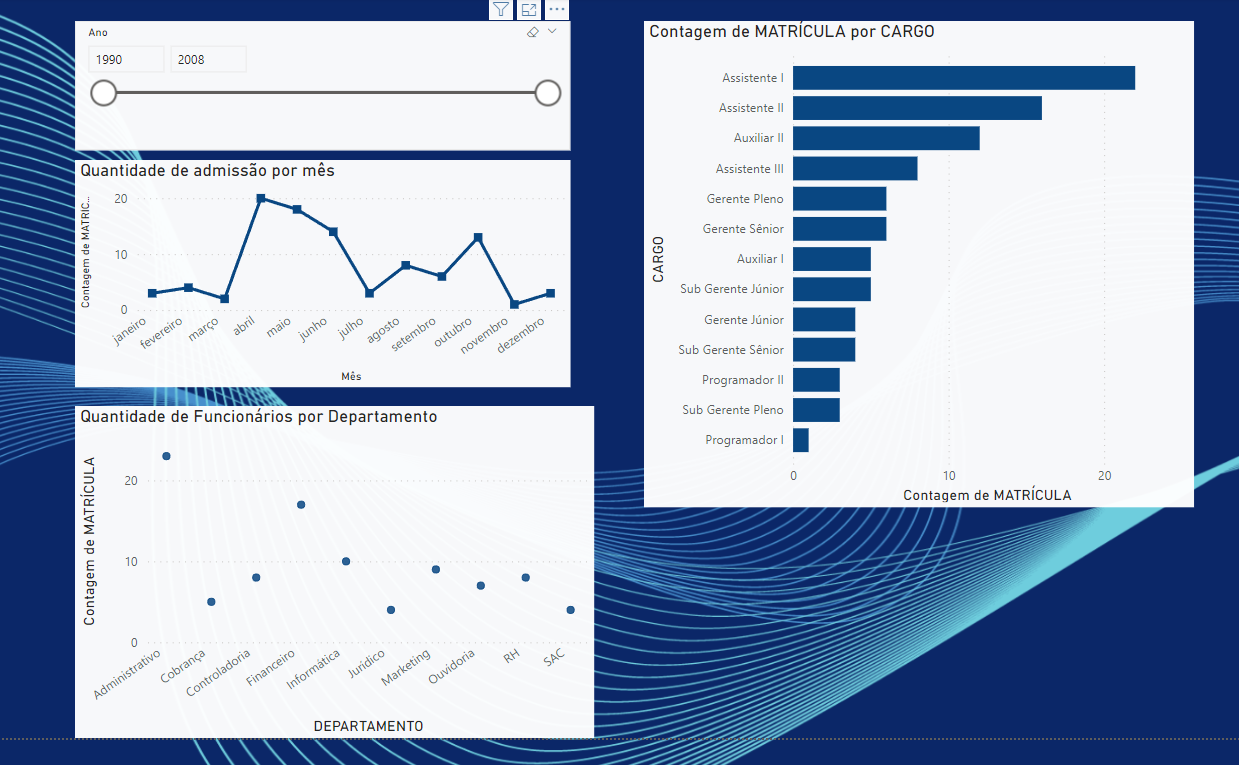

The page's visual inventory and layout, read from the dashboard file:
{"tool":"powerbi","page":{"name":"Conceitos","canvas":[1280,720],"ordinal":0},"visuals":[{"type":"barChart","fields":{"Category":["Cargo.CARGO"],"Y":["CountNonNull(Funcionário.MATRÍCULA)"]},"box":[687.5,22,535.2,473.4],"z":0},{"type":"lineChart","title":"Quantidade de admissão por mês","fields":{"Category":["Funcionário.ADMISSÃO.Variation.Hierarquia de datas.Mês"],"Y":["CountNonNull(Funcionário.MATRÍCULA)"]},"box":[134.5,157.8,481.6,220.9],"z":1000},{"type":"slicer","fields":{"Values":["Funcionário.ADMISSÃO.Variation.Hierarquia de datas.Ano"]},"box":[134.5,22,481.6,126.2],"z":2000},{"type":"scatterChart","title":"Quantidade de Funcionários por Departamento","fields":{"X":["Departamento.DEPARTAMENTO"],"Y":["Funcionário.MATRÍCULA"]},"box":[134.5,396.6,505,323.8],"z":3000}]}

Visuals, with their boxes in screenshot pixels (x1, y1, x2, y2):
barChart - Cargo.CARGO x CountNonNull(Funcionário.MATRÍCULA): region(641, 19, 1190, 505)
"Quantidade de admissão por mês" lineChart: region(73, 159, 568, 385)
slicer - Funcionário.ADMISSÃO.Variation.Hierarquia de datas.Ano: region(73, 19, 568, 149)
"Quantidade de Funcionários por Departamento" scatterChart: region(73, 404, 592, 736)
